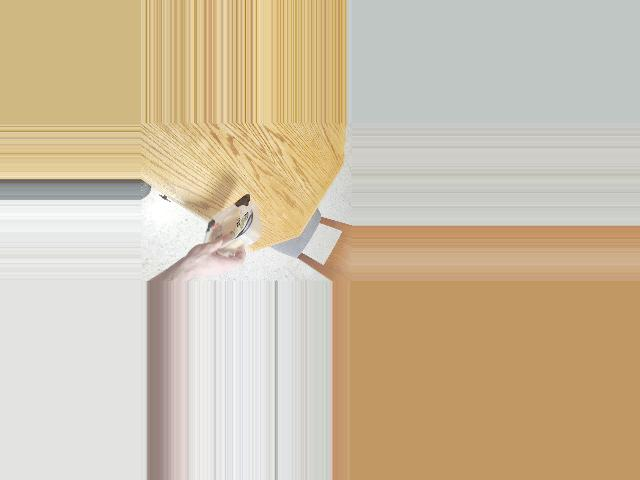cheese: (185, 197, 267, 252)
